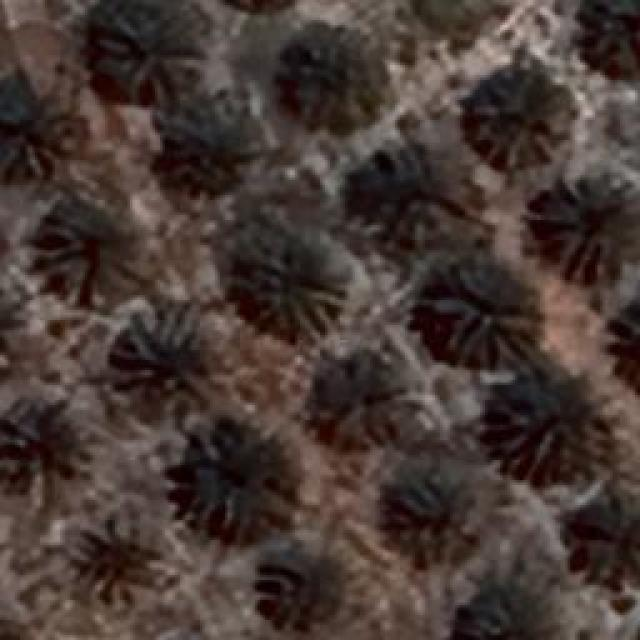PalmTree: (180, 420, 300, 540), (430, 255, 545, 368), (485, 368, 596, 480), (528, 175, 638, 285), (280, 25, 390, 133), (29, 198, 142, 298), (468, 60, 570, 170), (240, 237, 342, 335), (365, 155, 473, 245), (312, 351, 406, 449), (98, 15, 202, 103), (112, 312, 206, 406), (156, 109, 264, 189), (82, 517, 166, 615), (392, 478, 478, 568), (0, 396, 78, 494), (0, 70, 72, 175), (262, 554, 352, 638), (572, 504, 640, 588), (459, 587, 559, 640), (599, 285, 640, 398), (399, 0, 518, 37), (577, 0, 637, 62)
